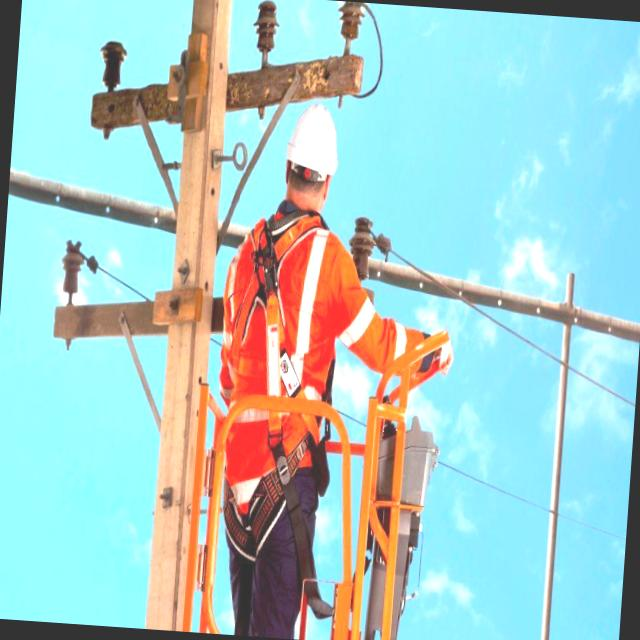helmet: (281, 96, 352, 190)
vest: (206, 203, 358, 489)
